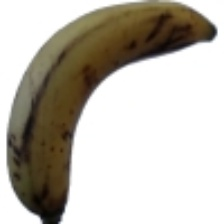banana: (25, 17, 224, 215)
